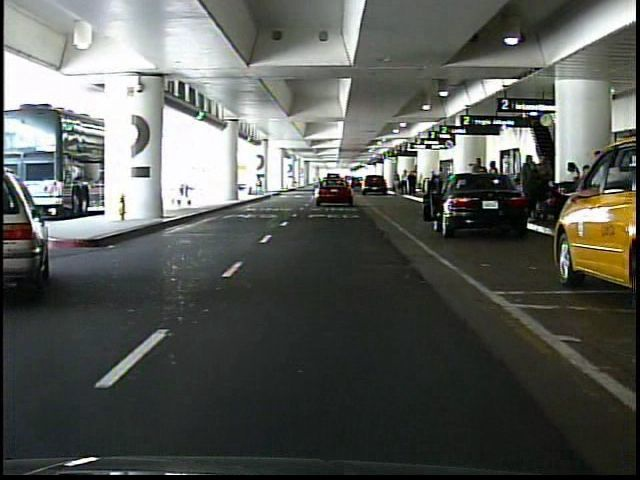person: (519, 156, 542, 223), (471, 155, 489, 211), (487, 159, 504, 210), (402, 169, 411, 197), (410, 172, 419, 198), (395, 175, 403, 195), (543, 151, 544, 220)
